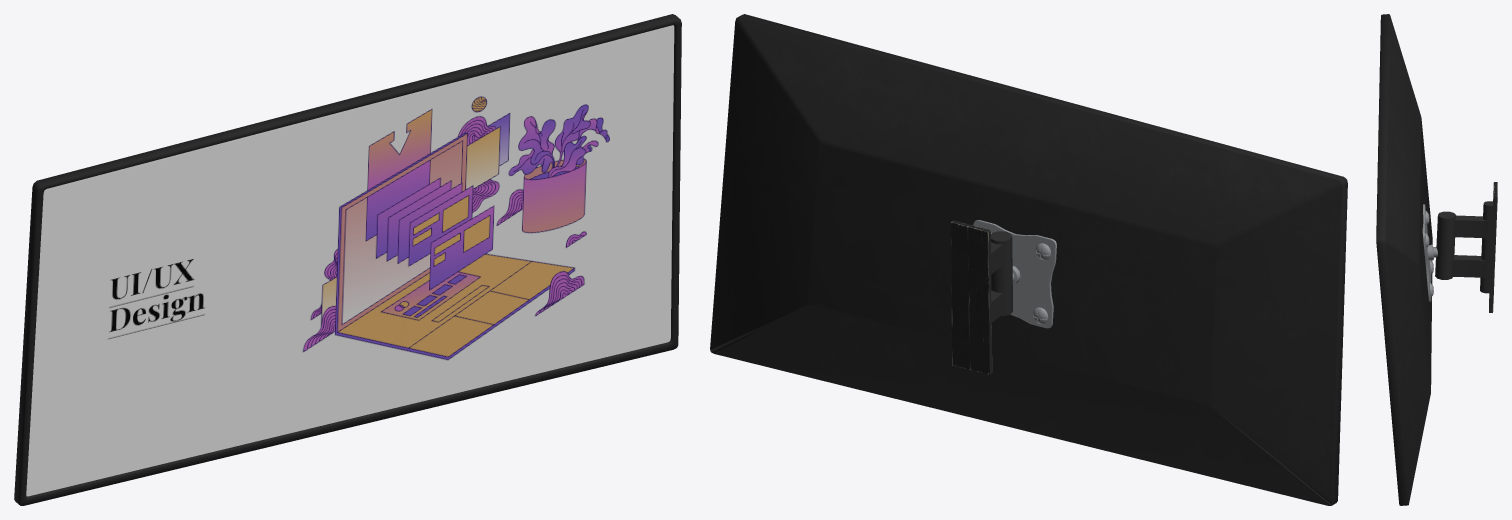
Rendered from hangingmonitor4_1750196179336.glb.
3 views of the same model, side by side, from view 1: azimuth 30°, elevation 25°; view 2: azimuth 150°, elevation 25°; view 3: azimuth 270°, elevation 25° (orthographic). The views are drawn at different scales.
Parts seen in each view (by area): view 1: screen, monitor; view 2: monitor; view 3: monitor.
Boxes of the visible parts, bbox=[...] form: screen: bbox=[26, 25, 674, 496]; monitor: bbox=[14, 14, 681, 505]; monitor: bbox=[710, 14, 1347, 505]; monitor: bbox=[1376, 14, 1497, 505].
Size of the model in its own units: 0.6718 by 0.3383 by 0.1415.
Materials: 1 (1 with a texture image).
